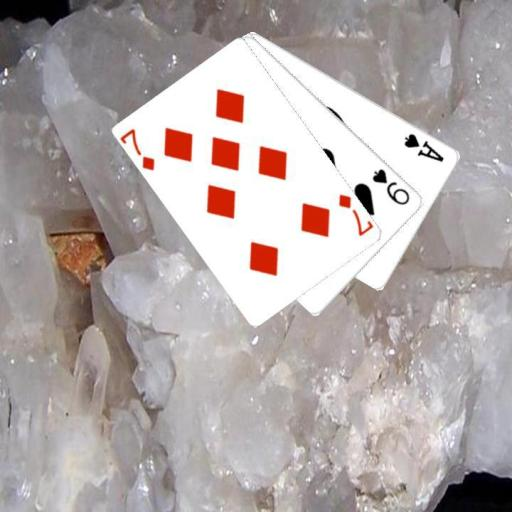7D: (336, 191, 374, 238), (119, 125, 157, 172)
9S: (369, 165, 412, 207)
AS: (401, 130, 446, 164)
